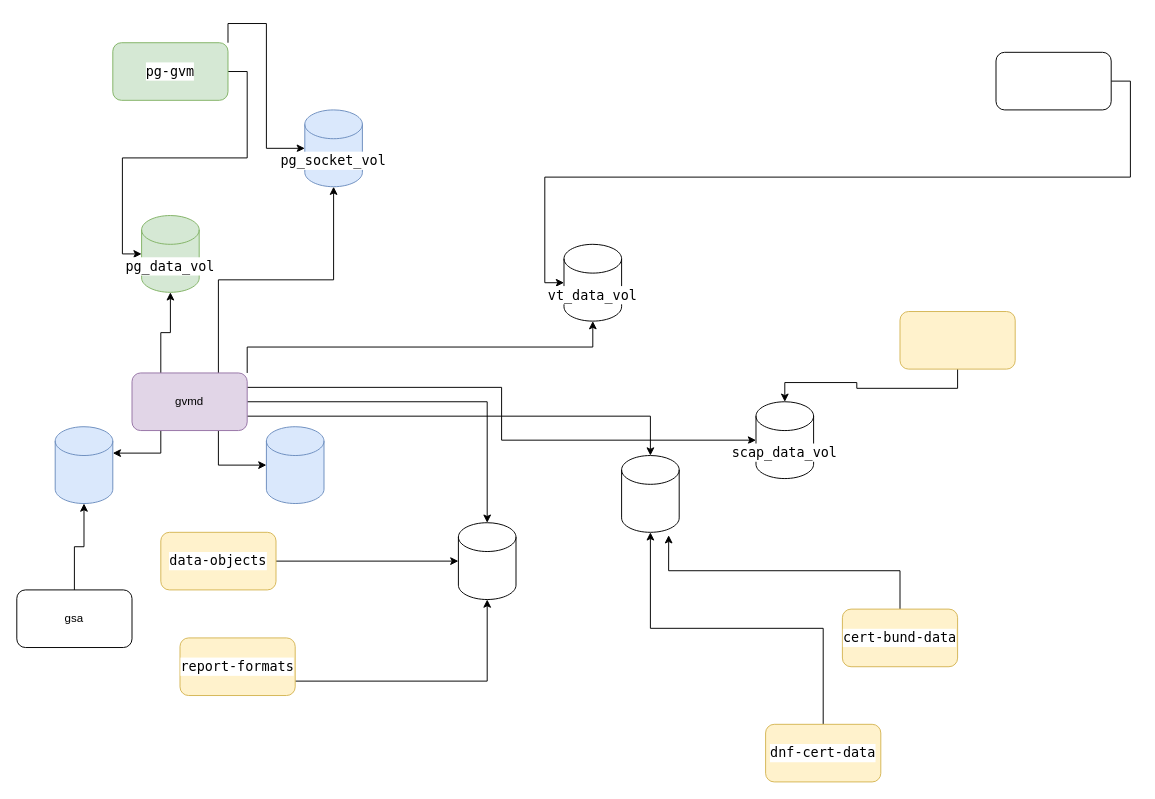
This 1155x799 diagram has some shape labels left out. Here are the shapes that lost their labels. From the top down, the box of each, then its label:
(995, 51, 1111, 110): vulnerability-tests
(899, 311, 1015, 369): scap-data
(54, 426, 113, 504): gvmd_socket_vol
(265, 426, 324, 504): ospd_openvas_socket_vol
(621, 455, 679, 532): cert__data_vol
(457, 522, 516, 600): data_objects_vol
